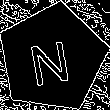N_N: (28, 30, 77, 86)
